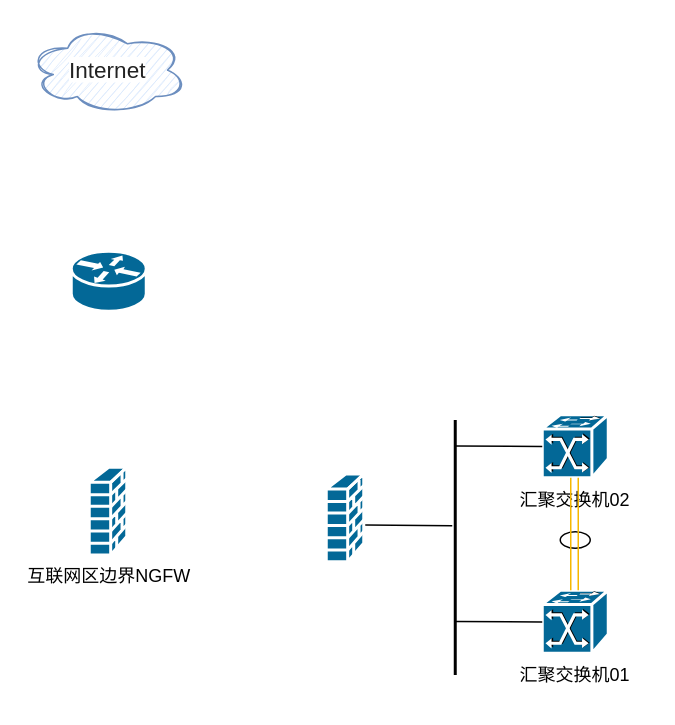
The diagram is 675 pixels wide and 725 high, and some of its shapes have lost their labels. The box of each missing label's shape, as (x1, y1, x2, y2) in pixels:
业务区边界NGFW: (324, 472, 364, 562)
互联网出口网关: (69, 249, 147, 312)
